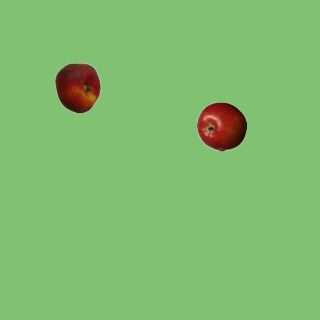Apple Braeburn: (196, 101, 246, 151)
Nectarine Flat: (52, 62, 102, 112)
